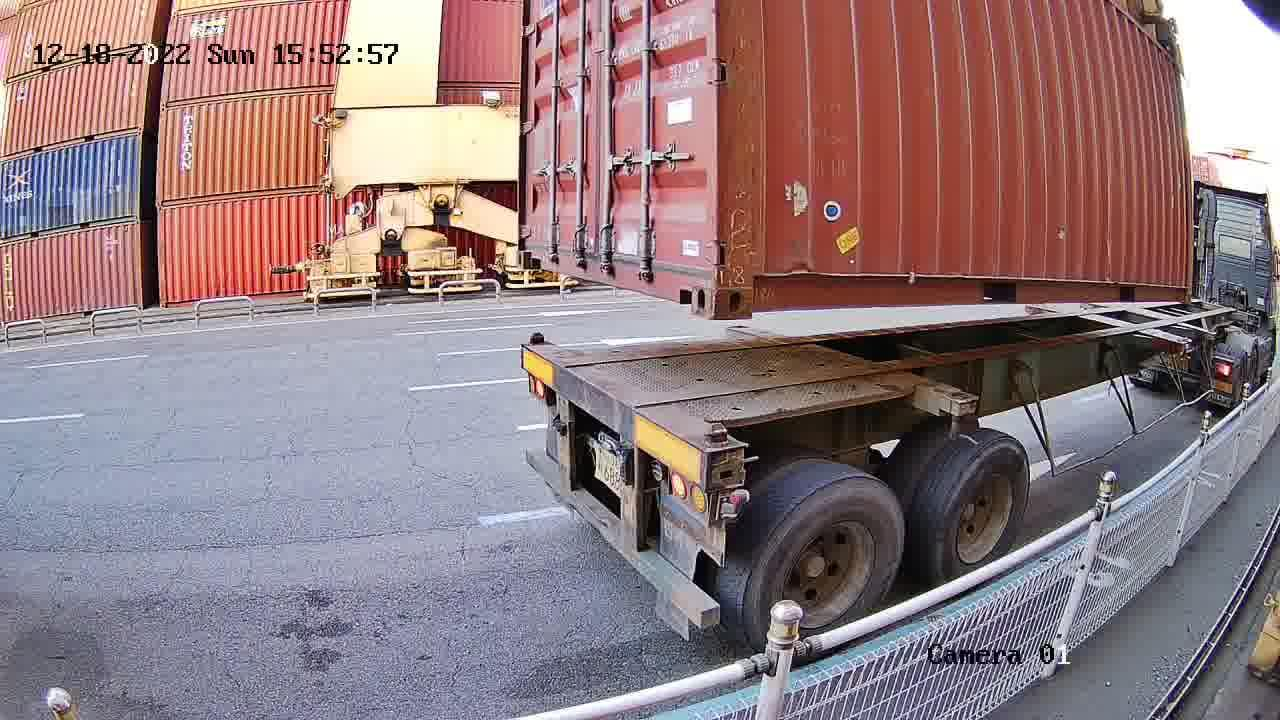Chassis: (519, 342, 747, 490)
Cone: (693, 421, 747, 490), (520, 330, 546, 377)
Hole_L: (715, 241, 785, 317), (516, 225, 548, 273)
Hole_R: (661, 241, 715, 321)
Tire: (748, 478, 905, 647), (934, 440, 1030, 580)
